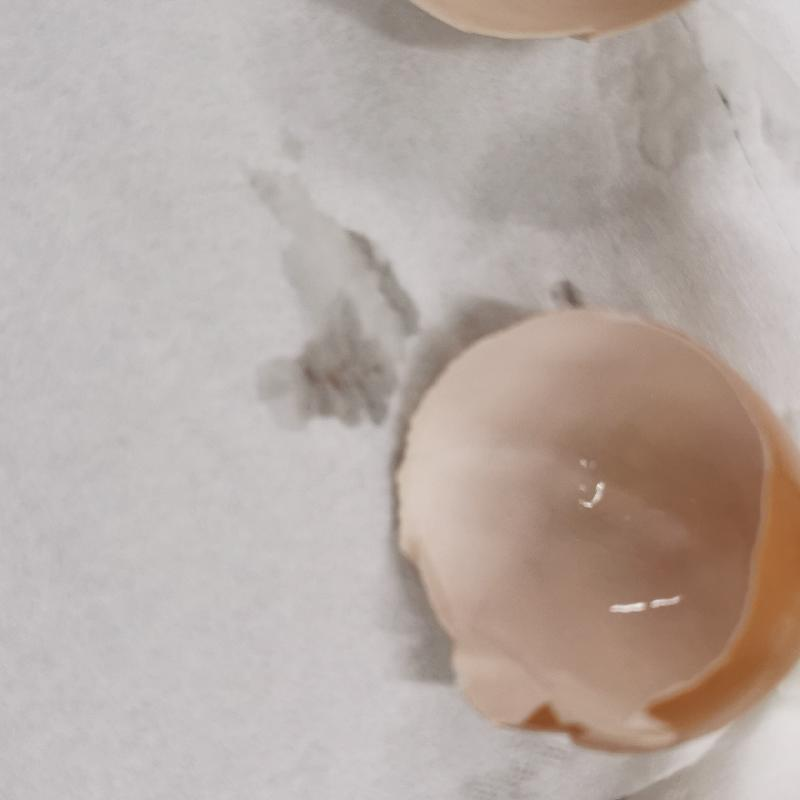eggshell: (394, 305, 793, 752)
